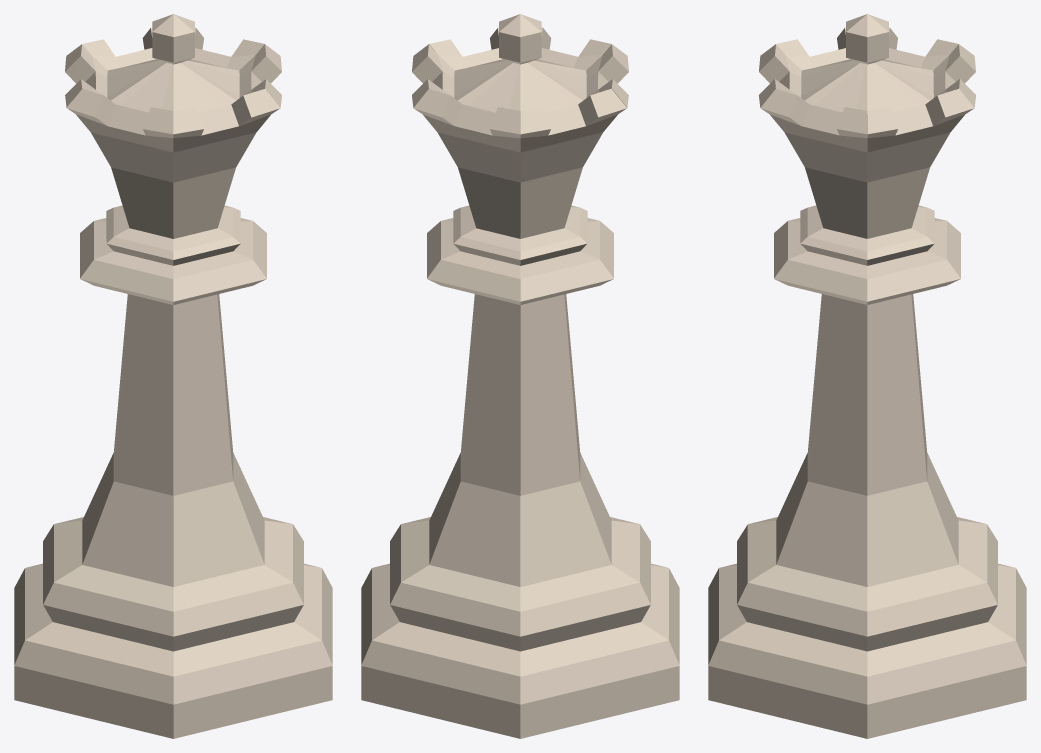
The model's file is Queen.fbx.
The picture shows the model from 3 angles, left to right: view 1: azimuth 30°, elevation 25°; view 2: azimuth 150°, elevation 25°; view 3: azimuth 270°, elevation 25°; orthographic projection.
Parts seen in each view (by area): view 1: Queen; view 2: Queen; view 3: Queen.
Boxes of the visible parts, left/top/right/bottom form: Queen: left=14, top=14, right=332, bottom=738; Queen: left=361, top=14, right=679, bottom=738; Queen: left=708, top=14, right=1026, bottom=738.
Bounding box in the file's own units: 87.63 × 170 × 75.89.
